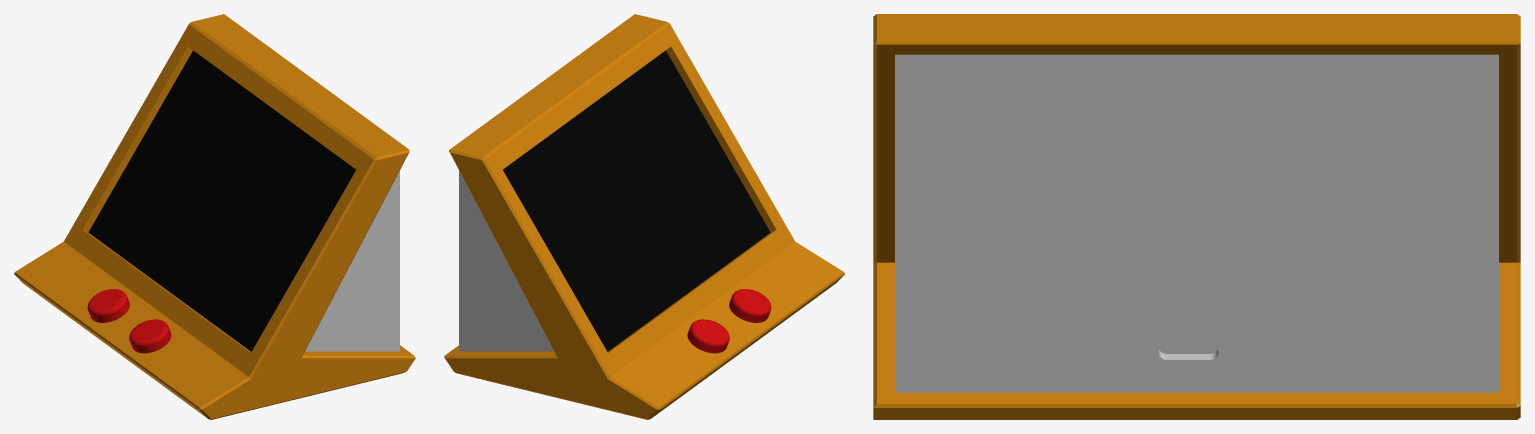
The model's file is test-colour.obj.
3 renders of one model, left to right at view 1: azimuth 30°, elevation 25°; view 2: azimuth 150°, elevation 25°; view 3: azimuth 270°, elevation 25°, orthographic. The views are drawn at different scales.
Visible parts, largest first — view 1: Clock_V3_v3; view 2: Clock_V3_v3; view 3: Clock_V3_v3.
Boxes of the visible parts, bbox=[...] form: Clock_V3_v3: bbox=[14, 14, 415, 419]; Clock_V3_v3: bbox=[444, 14, 844, 419]; Clock_V3_v3: bbox=[873, 14, 1520, 419].
Size of the model in its own units: 59.84 by 58.92 by 90.
